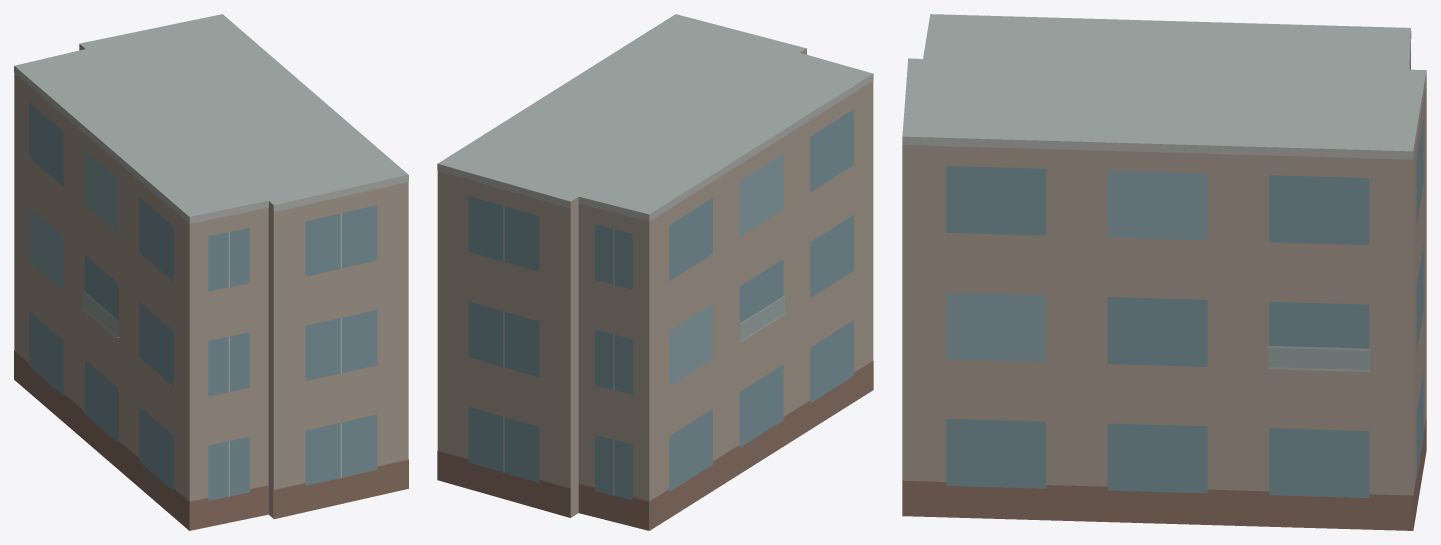
The model's file is survey-upis-32638257.glb.
3 views of the same model, side by side, from view 1: azimuth 30°, elevation 25°; view 2: azimuth 150°, elevation 25°; view 3: azimuth 270°, elevation 25° (orthographic). The views are drawn at different scales.
Visible parts, largest first — view 1: survey-upis-32638257.tmp; view 2: survey-upis-32638257.tmp; view 3: survey-upis-32638257.tmp.
Part boxes in pixels (<box>): survey-upis-32638257.tmp: <box>14,14,408,530</box>; survey-upis-32638257.tmp: <box>437,14,873,530</box>; survey-upis-32638257.tmp: <box>902,14,1426,530</box>.
Bounding box in the file's own units: 8.59 × 11.05 × 13.84.
